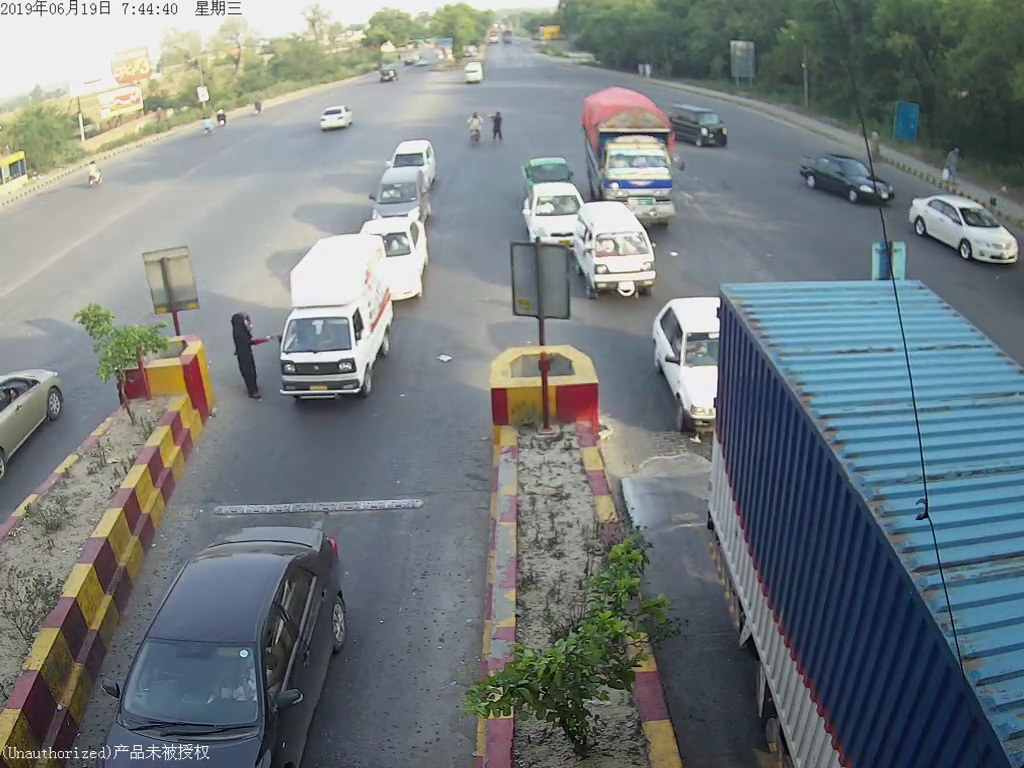Cat-1: (273, 251, 390, 400), (655, 307, 719, 429), (582, 215, 663, 300)
Cat-4: (573, 86, 684, 197)
